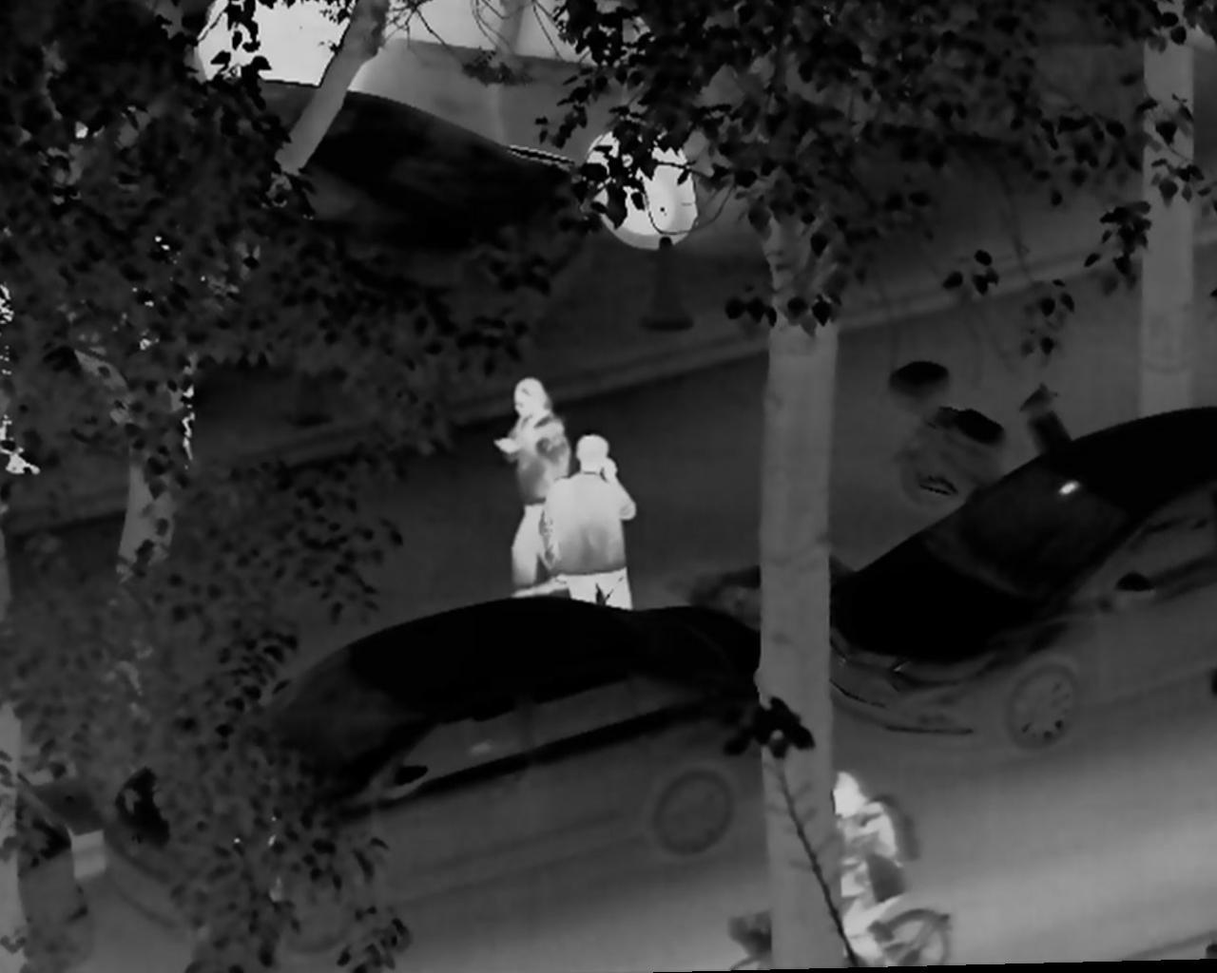person: (128, 210, 206, 463), (486, 376, 570, 604), (541, 429, 640, 615), (821, 763, 908, 973)
